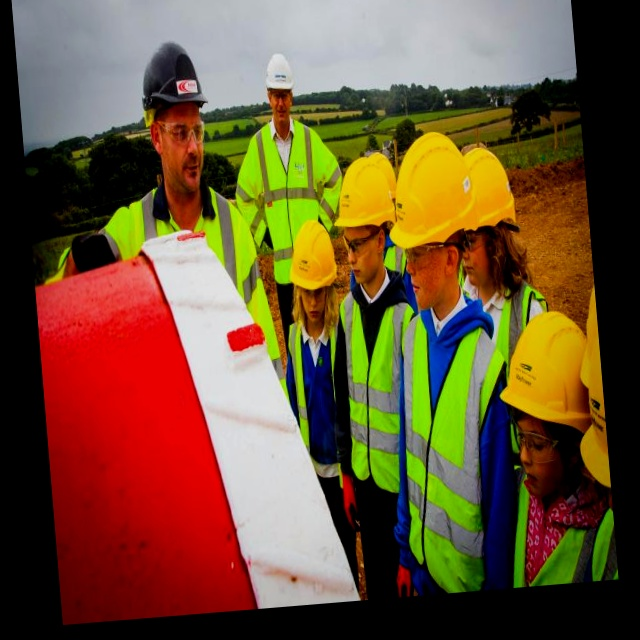Con_Casco: (140, 37, 218, 194), (288, 221, 339, 324), (263, 50, 297, 130)
Con_Chaleco: (392, 307, 518, 591), (338, 289, 426, 497), (250, 118, 327, 225)
